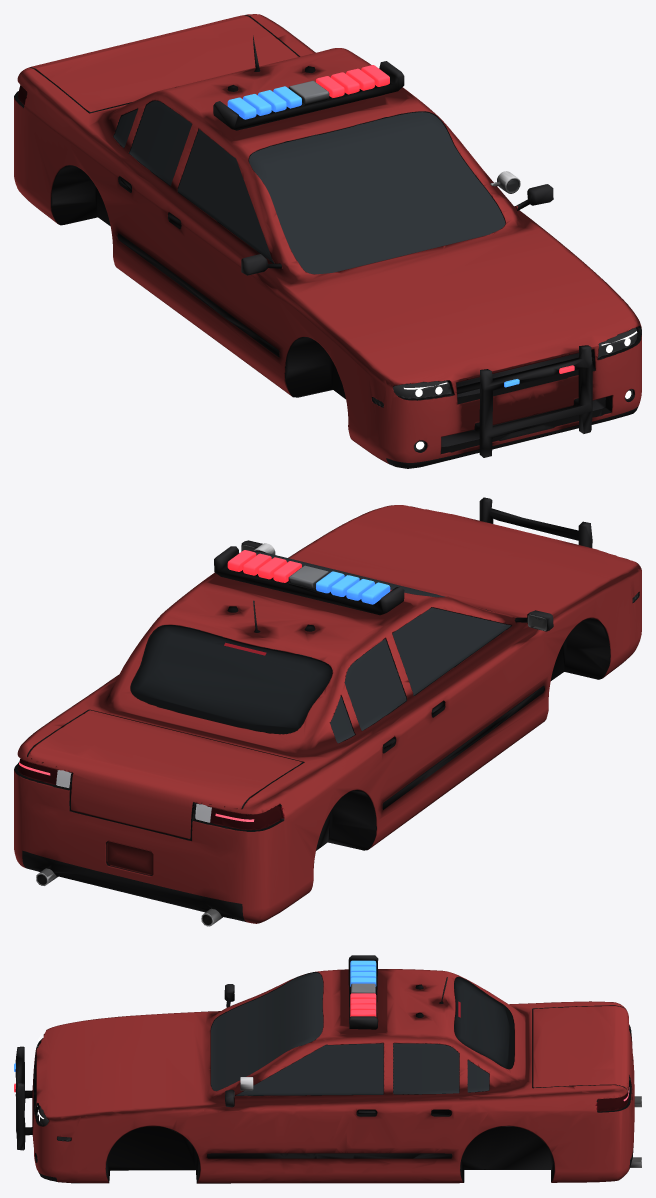
Rendered from marshal.m.glb.
The picture shows the model from 3 angles, top to bottom: view 1: azimuth 30°, elevation 25°; view 2: azimuth 150°, elevation 25°; view 3: azimuth 270°, elevation 25°; orthographic projection. The views are drawn at different scales.
Parts seen in each view (by area): view 1: paint_lodm, window_lodm, trim_lodm, head_lodm, beaconB_lodm, beaconR_lodm, grille_lodm; view 2: paint_lodm, trim_lodm, glass_lodm, window_lodm, tail_lodm, beaconB_lodm, beaconR_lodm, chrome_lodm, head_lodm; view 3: paint_lodm, window_lodm, trim_lodm, glass_lodm, beaconB_lodm, beaconR_lodm, head_lodm, chrome_lodm, tail_lodm.
Part boxes in pixels (x1,y1,x2,y2): paint_lodm: [14, 14, 641, 463]; window_lodm: [113, 101, 505, 274]; trim_lodm: [14, 15, 641, 468]; head_lodm: [288, 80, 637, 450]; beaconB_lodm: [227, 86, 519, 387]; beaconR_lodm: [316, 65, 574, 373]; grille_lodm: [441, 353, 605, 446]; paint_lodm: [14, 505, 641, 923]; trim_lodm: [14, 497, 639, 922]; glass_lodm: [130, 625, 332, 734]; window_lodm: [252, 551, 510, 743]; tail_lodm: [18, 758, 284, 830]; beaconB_lodm: [316, 571, 390, 604]; beaconR_lodm: [227, 550, 301, 582]; chrome_lodm: [36, 543, 546, 926]; head_lodm: [288, 565, 638, 601]; paint_lodm: [32, 969, 634, 1183]; window_lodm: [211, 972, 489, 1095]; trim_lodm: [15, 955, 633, 1183]; glass_lodm: [454, 976, 514, 1069]; beaconB_lodm: [14, 960, 376, 1071]; beaconR_lodm: [14, 993, 376, 1092]; head_lodm: [38, 983, 375, 1140]; chrome_lodm: [234, 986, 641, 1167]; tail_lodm: [595, 1091, 628, 1111].
Size of what is drawn, in the model's own units: 2.24 by 1.49 by 5.23.
